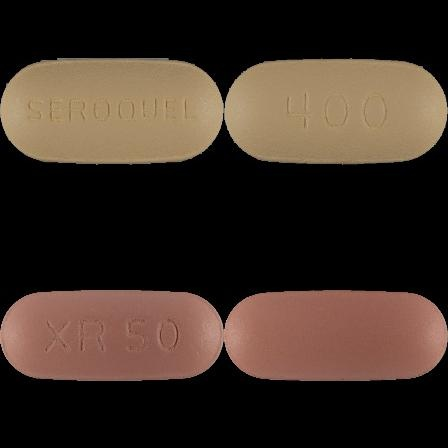0310-0279: (0, 0, 224, 224)
